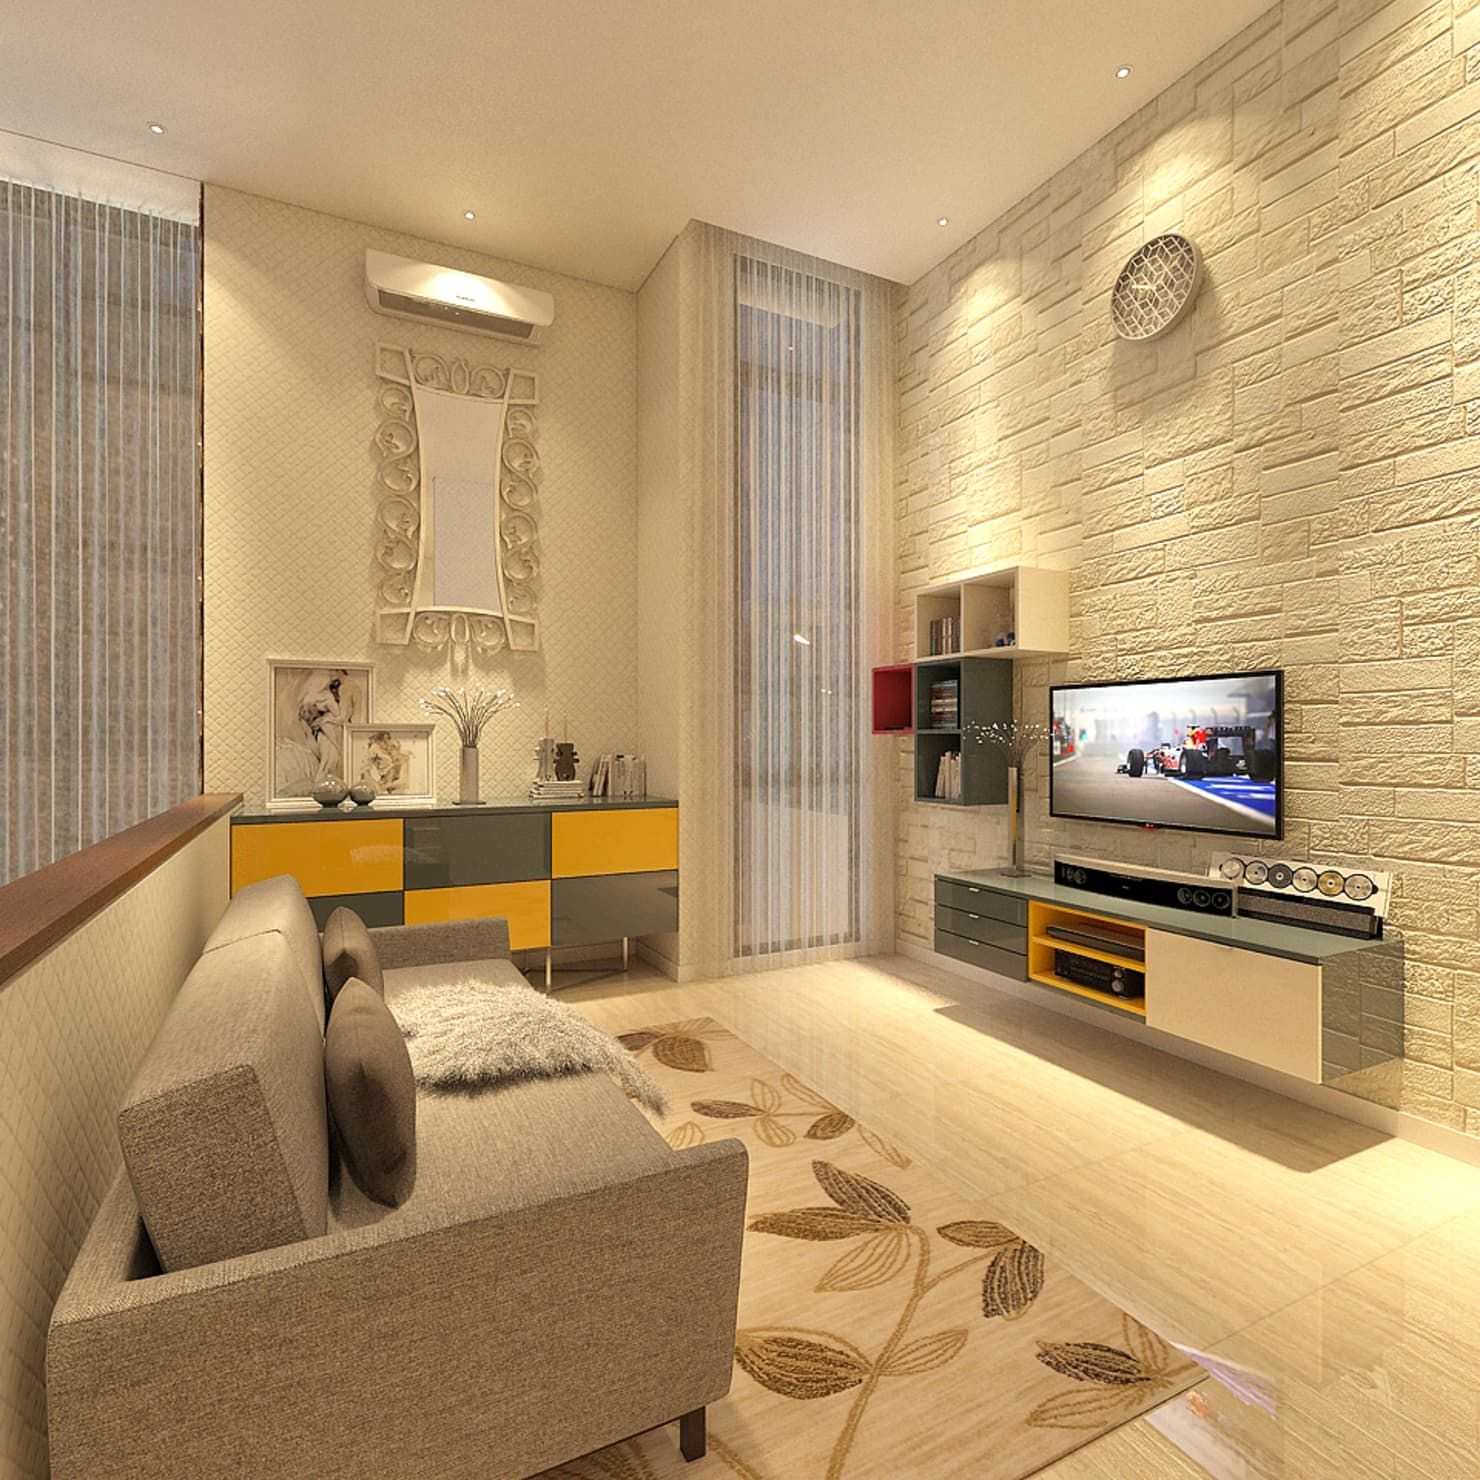bantal: (327, 979, 422, 1214)
buku: (588, 749, 655, 804), (924, 751, 973, 800), (922, 678, 965, 725), (927, 611, 960, 649)
lukisan: (268, 657, 385, 792)
sova: (35, 873, 731, 1469)
tanaman: (426, 683, 515, 797)
tv: (1035, 684, 1305, 838)
